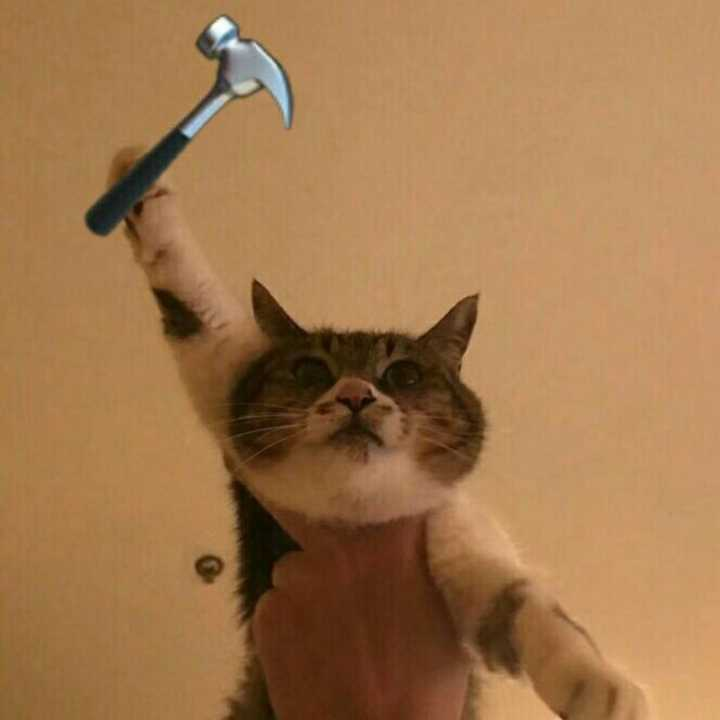cat: (204, 282, 510, 508)
